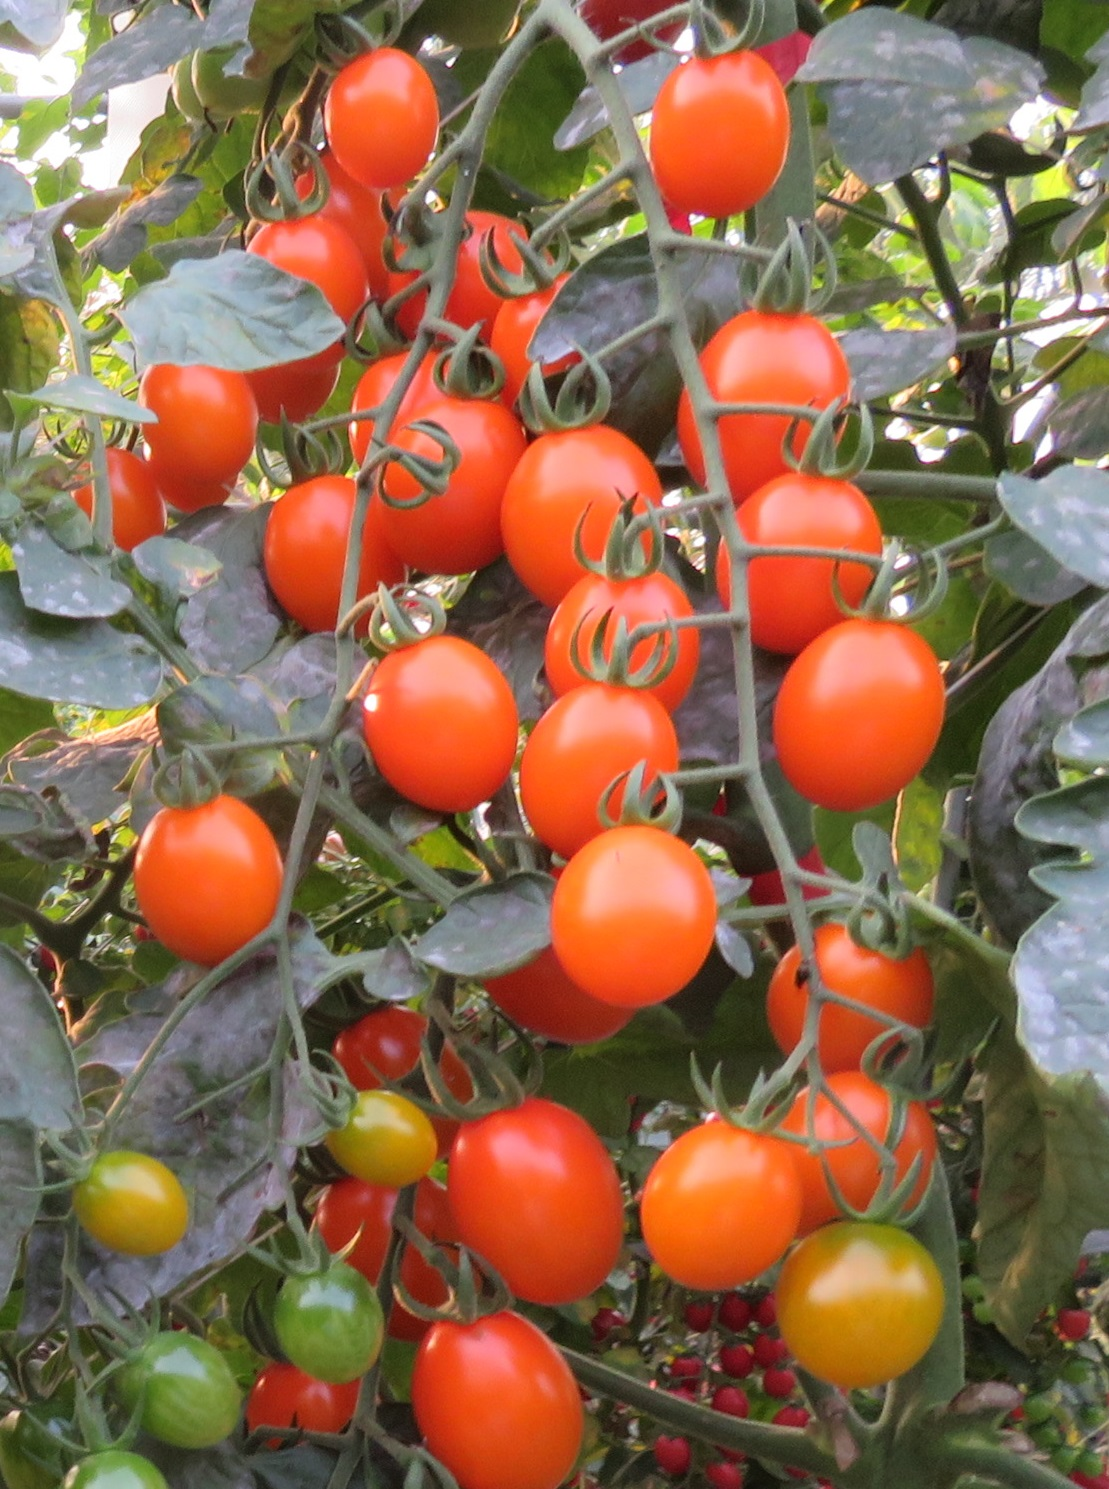green: (105, 1333, 242, 1452), (267, 1261, 387, 1383), (68, 1146, 195, 1261), (330, 1081, 445, 1190)
orange: (454, 1095, 631, 1312), (499, 415, 677, 609), (774, 615, 951, 810), (637, 1115, 819, 1298), (508, 680, 691, 858), (410, 1304, 582, 1489), (760, 918, 962, 1075), (548, 830, 719, 1012), (771, 1218, 951, 1384), (139, 790, 294, 975), (681, 312, 845, 486), (384, 391, 531, 581), (359, 633, 513, 812), (719, 475, 887, 637), (774, 1072, 942, 1232), (642, 52, 794, 218), (534, 560, 705, 706), (391, 212, 537, 343), (320, 49, 447, 195), (264, 481, 391, 624), (252, 213, 366, 358), (139, 355, 264, 484), (494, 271, 599, 388), (331, 1005, 469, 1091), (66, 449, 165, 546), (351, 353, 437, 449), (245, 1364, 340, 1447)
red: (716, 1338, 760, 1381), (655, 1432, 691, 1477), (712, 1386, 754, 1421), (706, 1458, 740, 1489), (688, 1297, 712, 1331)
